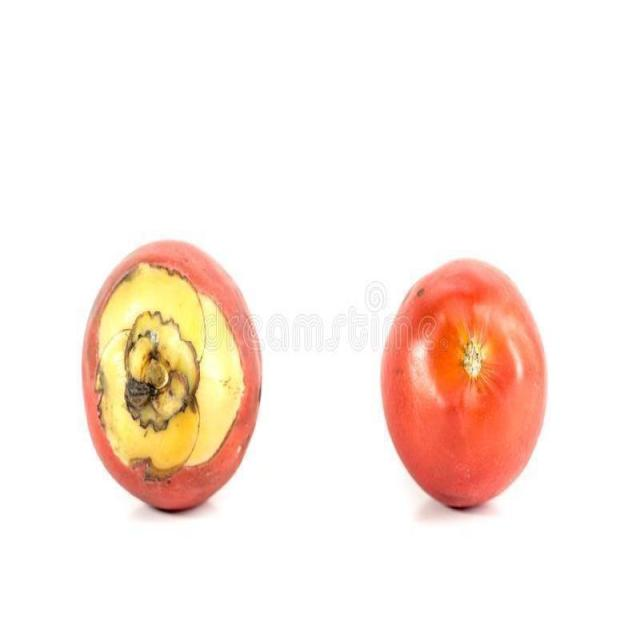good: (81, 240, 264, 515), (378, 258, 550, 514)
